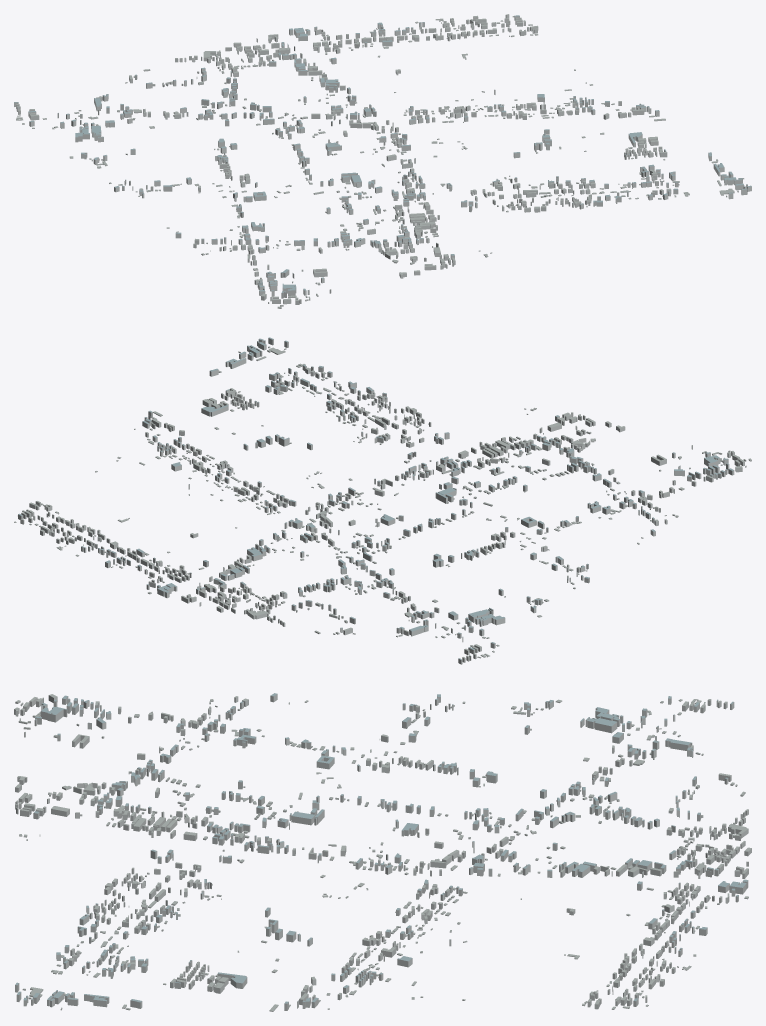
File: far.glb
3 renders of one model, top to bottom at view 1: azimuth 30°, elevation 25°; view 2: azimuth 150°, elevation 25°; view 3: azimuth 270°, elevation 25°, orthographic. The views are drawn at different scales.
Bounding box in the file's own units: 2106 × 26.7 × 2098.
